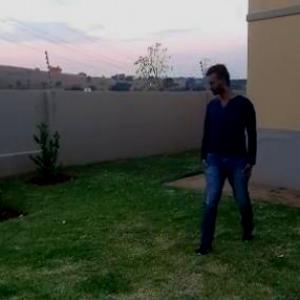follow: (186, 52, 257, 266)
